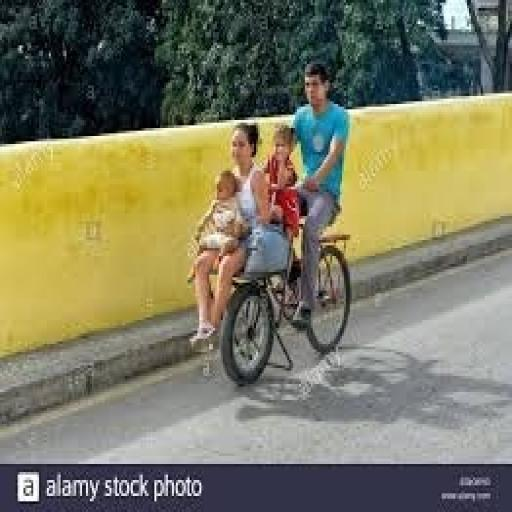cycling: (285, 58, 354, 330)
